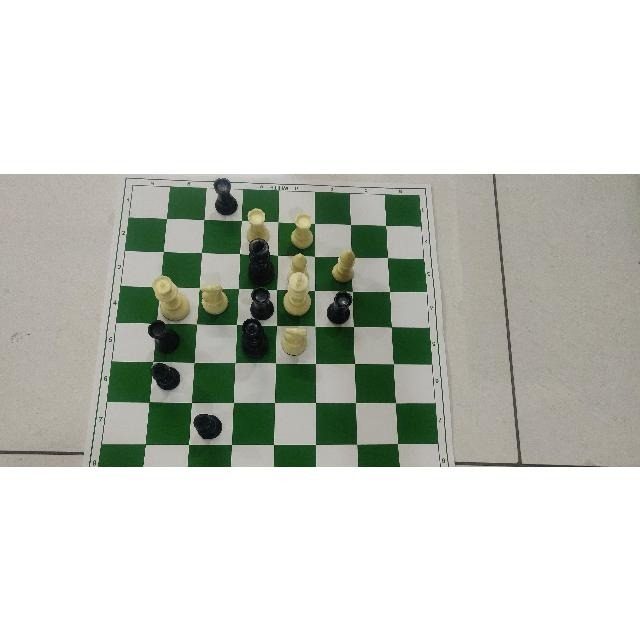black-bishop: (149, 359, 185, 393), (189, 410, 224, 440)
black-king: (247, 237, 274, 285)
black-queen: (240, 316, 272, 359)
black-rook: (210, 174, 240, 215), (148, 319, 182, 355), (325, 288, 355, 327), (248, 287, 275, 319)
white-bishop: (331, 247, 358, 283), (287, 253, 309, 275)
white-king: (282, 271, 312, 317)
white-knight: (201, 275, 229, 314), (281, 326, 309, 356)
white-queen: (150, 271, 193, 323)
white-rook: (290, 211, 314, 248), (247, 206, 271, 241)
